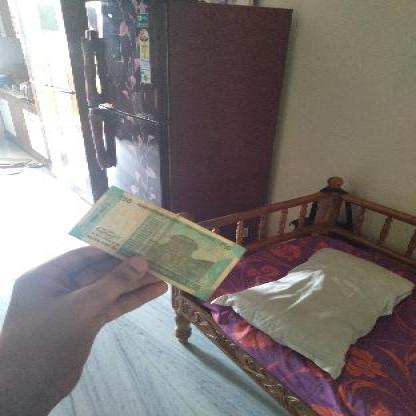New50Back: (67, 183, 237, 302)
